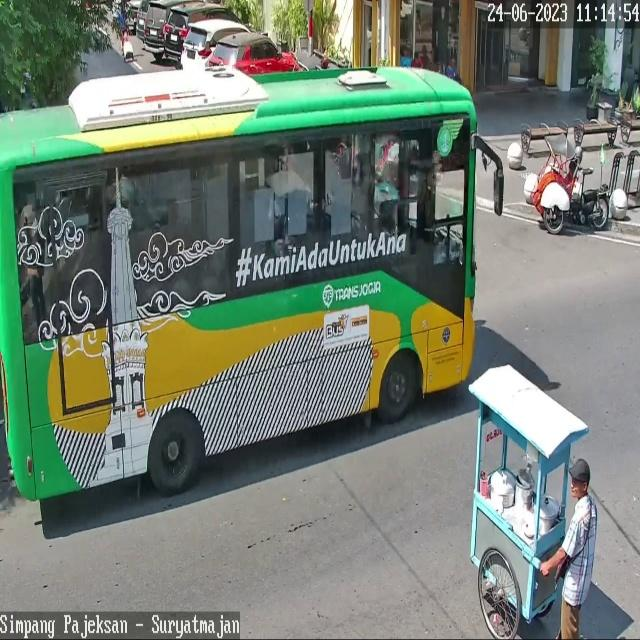car: (0, 65, 475, 500)
motorcycle: (163, 4, 246, 64), (206, 33, 300, 74), (181, 21, 252, 68), (143, 0, 169, 53)
